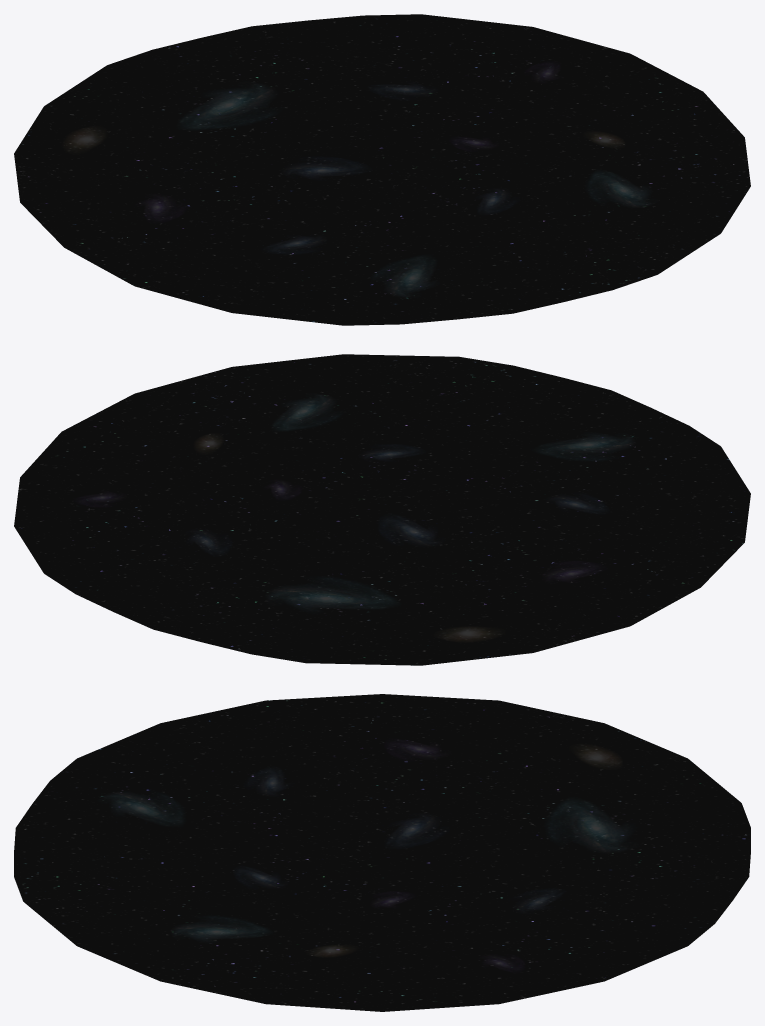
File: SpaceFloor.obj
The picture shows the model from 3 angles, top to bottom: view 1: azimuth 30°, elevation 25°; view 2: azimuth 150°, elevation 25°; view 3: azimuth 270°, elevation 25°; orthographic projection.
Visible parts, largest first — view 1: pCylinder1; view 2: pCylinder1; view 3: pCylinder1.
Boxes of the visible parts, x1,y1,x2,y2 form: pCylinder1: (14,14,750,325); pCylinder1: (14,354,750,665); pCylinder1: (14,694,750,1011).
Bounding box in the file's own units: 10568 × 0.000422 × 10351.
1 material, 1 textured.
